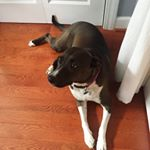puppy: (25, 12, 118, 150)
